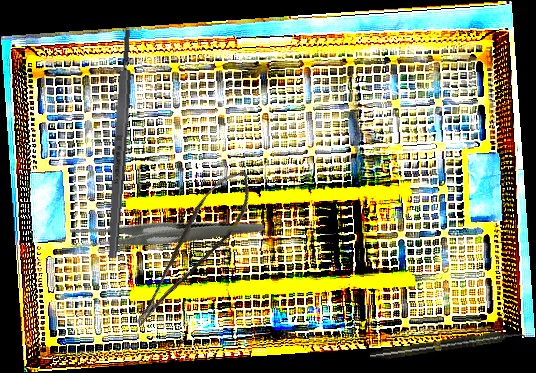Dressing Forceps: (65, 177, 265, 294)
Handpiece: (369, 327, 526, 363)
Micro Scissor: (110, 161, 269, 330)
Scalpel Handle: (105, 29, 135, 259)
